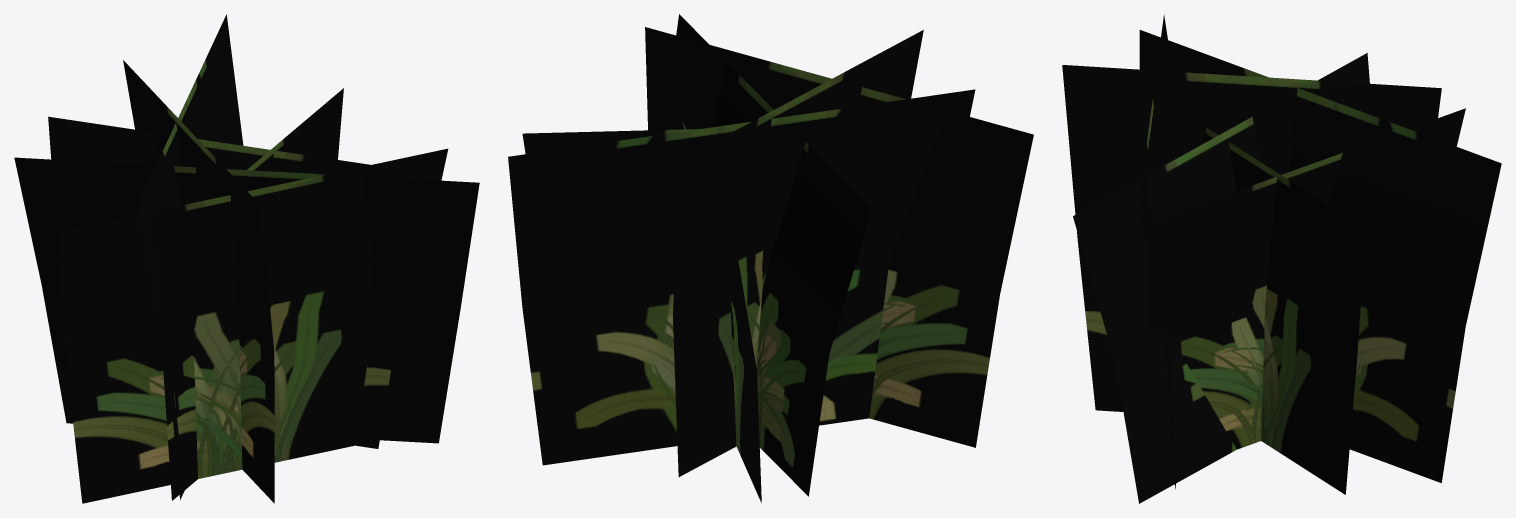
Rendered from trava_nizka_2.glb.
3 renders of one model, left to right at view 1: azimuth 30°, elevation 25°; view 2: azimuth 150°, elevation 25°; view 3: azimuth 270°, elevation 25°, orthographic. The views are drawn at different scales.
Visible parts, largest first — view 1: trava_nizka_2; view 2: trava_nizka_2; view 3: trava_nizka_2.
Part boxes in pixels (<box>): trava_nizka_2: <box>14,14,479,503</box>; trava_nizka_2: <box>508,14,1033,502</box>; trava_nizka_2: <box>1062,14,1501,503</box>.
Size of the model in its own units: 0.4249 by 0.3372 by 0.4072.
1 material, 1 textured.
